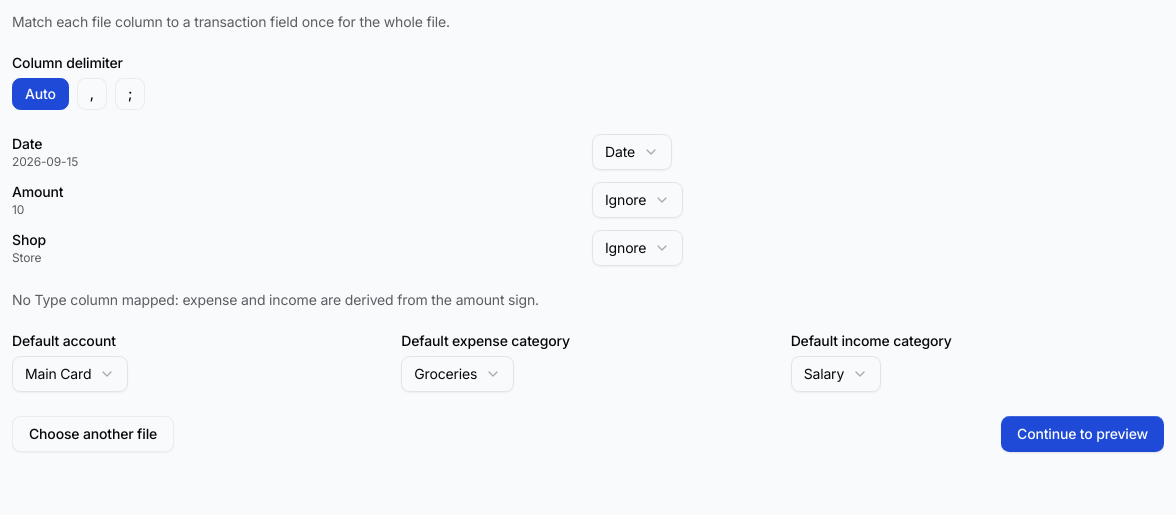
Test: ColumnMapper › blocks the transition and warns when required columns are missing
The image size is (1176, 515).
Click the button "Continue to preview": [1082, 434] box [1001,416,1164,452]
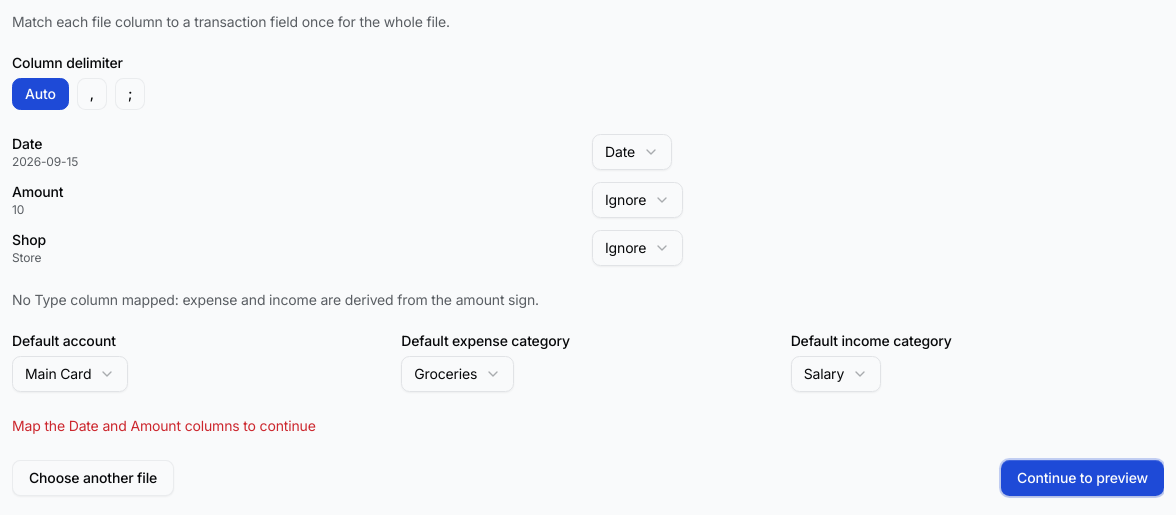
Expected: the text "Map the Date and Amount columns to continue" is shown, [12,417,316,434]
